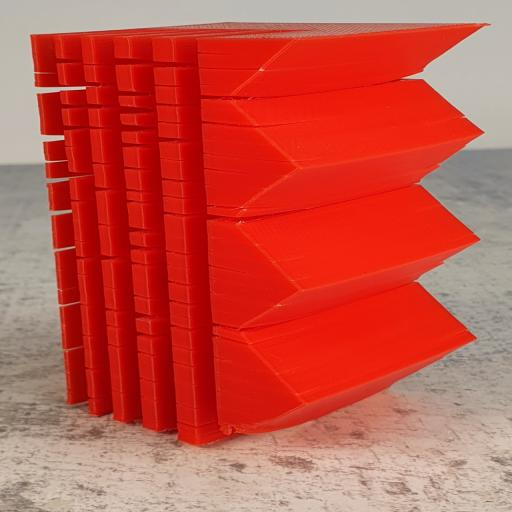cracks: (31, 181, 116, 402), (4, 56, 120, 140), (351, 64, 506, 107), (190, 300, 293, 351), (193, 195, 299, 243), (193, 80, 306, 125)
